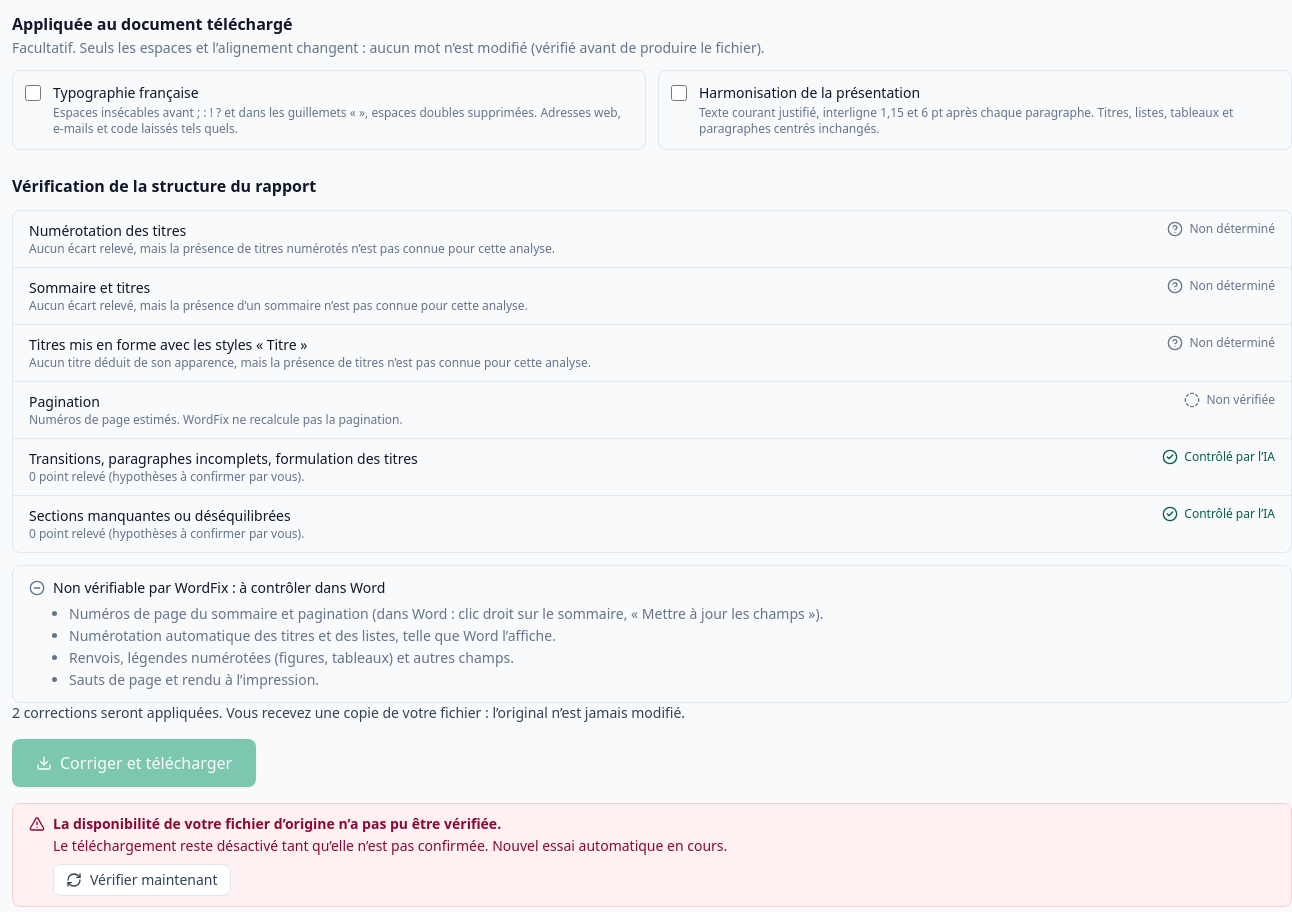
Test: Action principale « Corriger et télécharger » › vérification du fichier d’origine impossible : message clair, bouton désactivé jusqu’à confirmation
Expected: the text "La disponibilité de votre fichier d’origine n’a pas pu être vérifiée" is shown, [53,814,501,833]
Expected: the button "Corriger et télécharger" is disabled, [12,739,256,787]
Click the button "Vérifier maintenant". click: (142, 880)
box: [53,864,230,896]
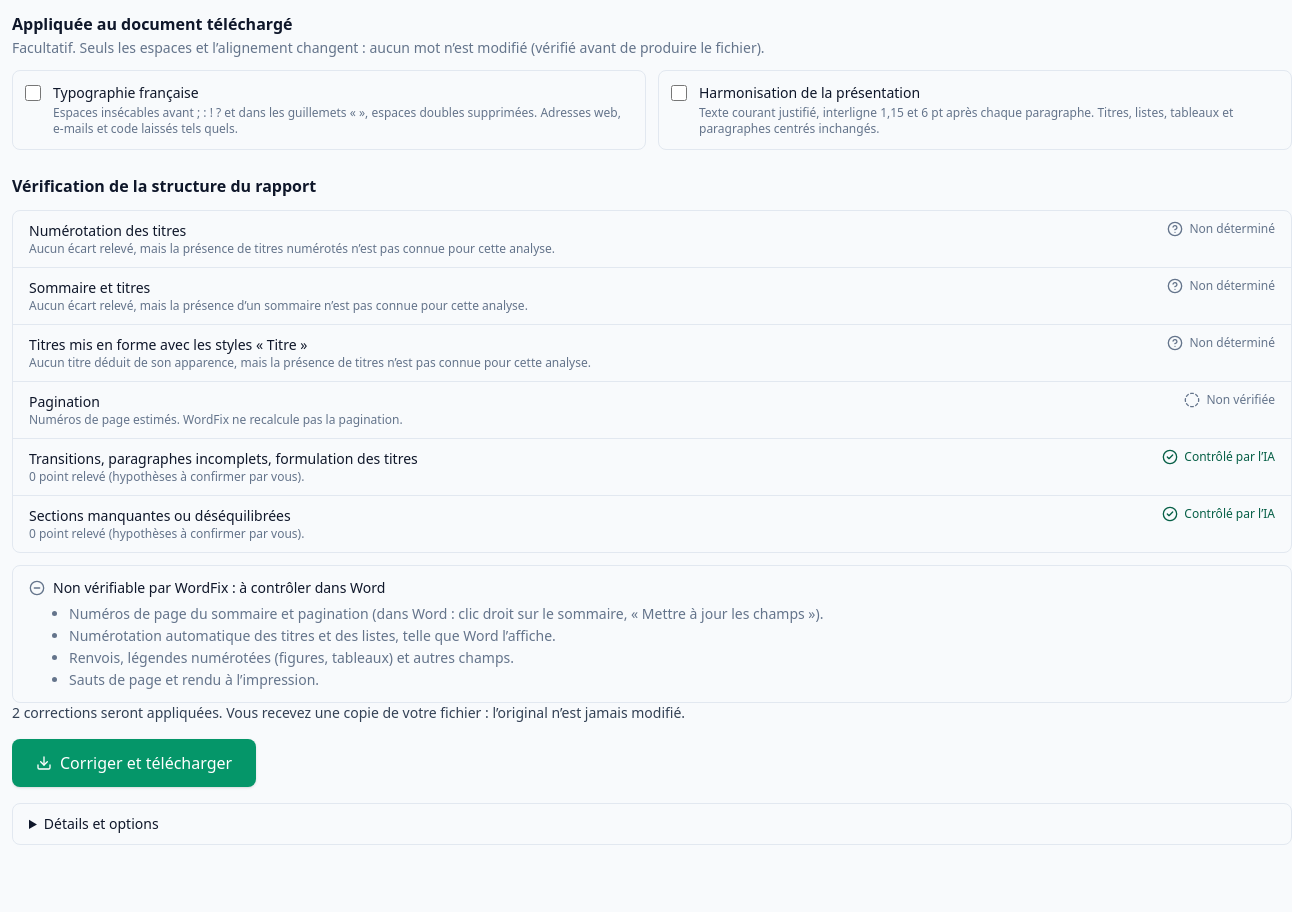
Now the button "Corriger et télécharger" is enabled, box [12,739,256,787]
Now the text "n’a pas pu être vérifiée" is gone
